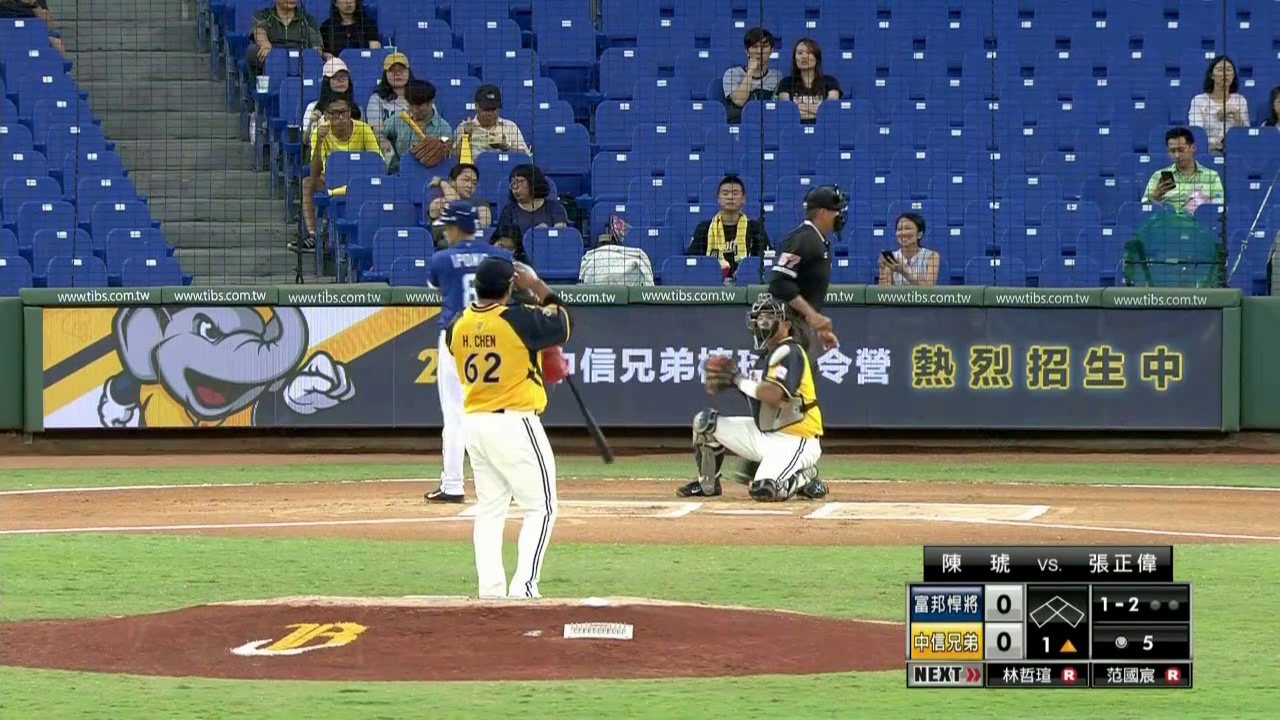base: (1026, 589, 1088, 632)
bat: (567, 370, 614, 461)
out: (1146, 590, 1190, 623)
score1: (986, 586, 1023, 618)
score2: (986, 624, 1021, 657)
session: (1029, 632, 1082, 663)
strikeball: (1094, 591, 1145, 616)
total: (1101, 630, 1161, 651)
